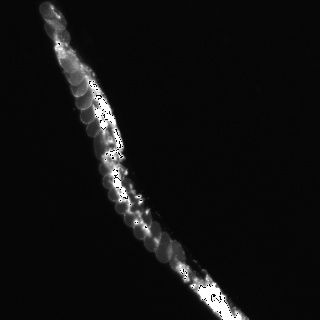embryo: (93, 124, 115, 159), (39, 2, 66, 30), (103, 164, 127, 193), (99, 148, 123, 176), (132, 207, 152, 240), (115, 191, 143, 214), (108, 177, 133, 202), (65, 69, 87, 97), (44, 20, 70, 43), (154, 232, 172, 263), (123, 202, 145, 227), (168, 240, 186, 270), (144, 221, 161, 251), (58, 52, 75, 72), (75, 91, 92, 109), (65, 71, 84, 86), (80, 107, 94, 124), (86, 120, 99, 137)
